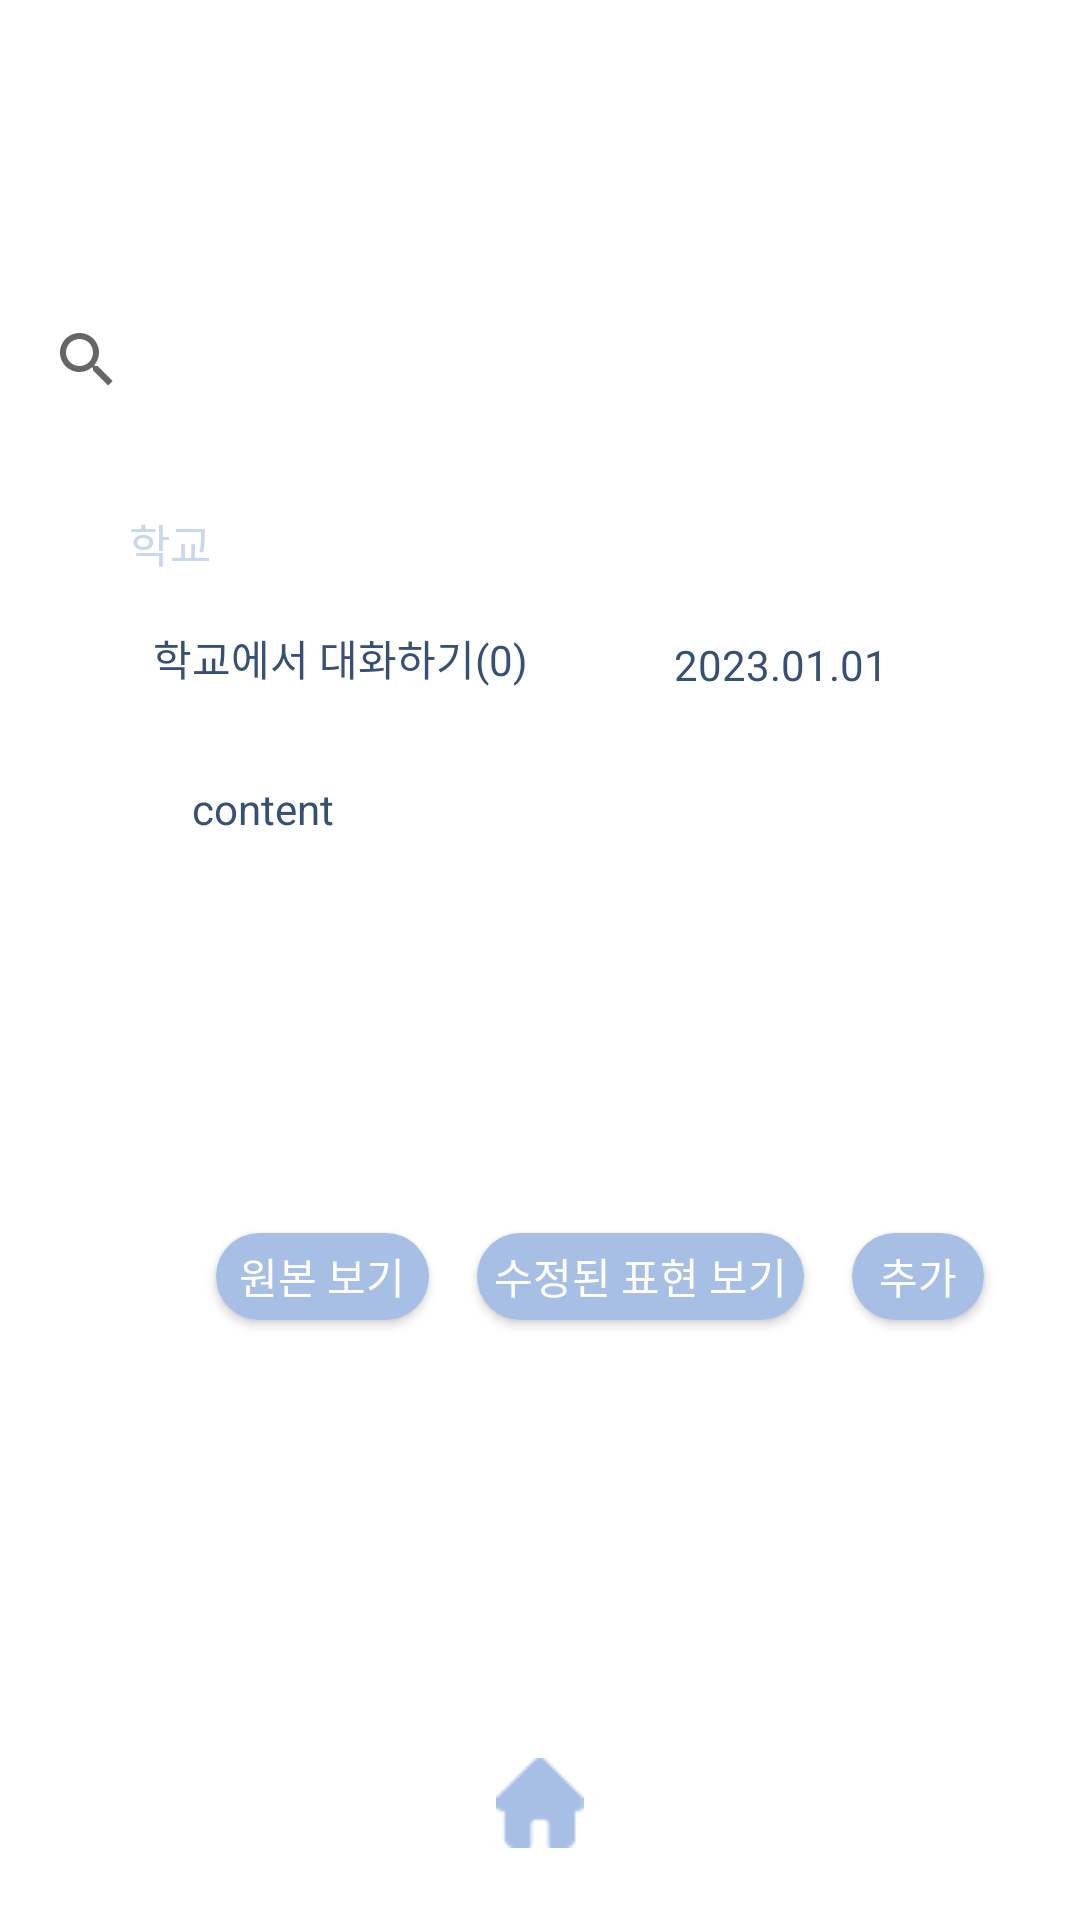

Where to tap for icons on this 1080 × 1920 app screen, as (x,y):
home: (540,1803)
